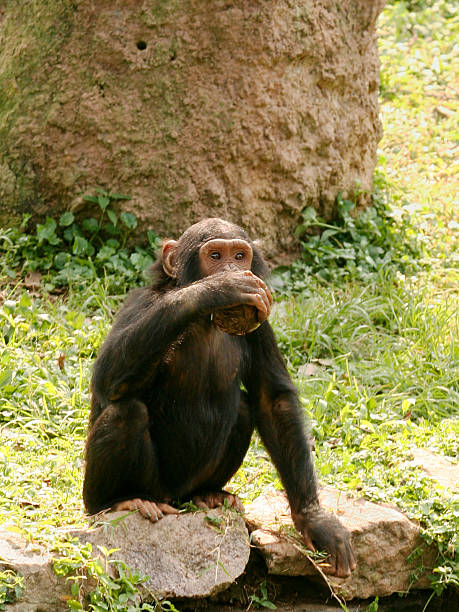chimpanzee: (127, 203, 277, 335)
